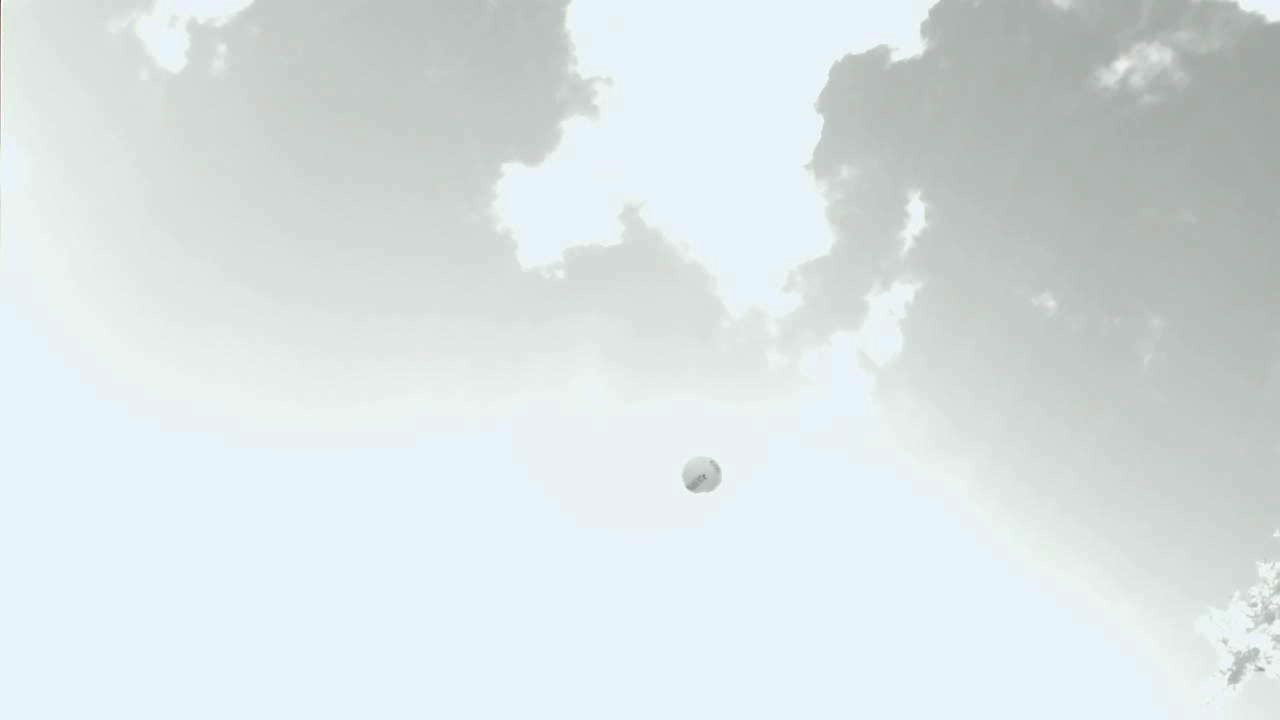Football-Spotter: (682, 457, 720, 491)
